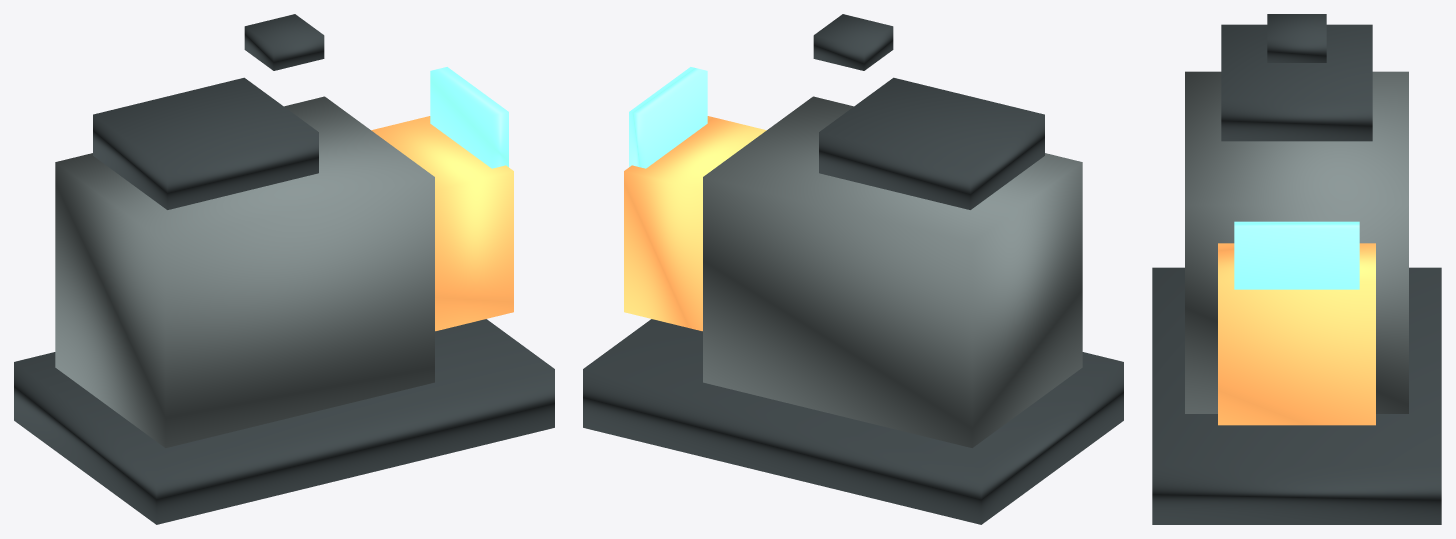
Rendered from jovian-harvester-skimmer-compressor-lod1.glb.
3 renders of one model, left to right at view 1: azimuth 30°, elevation 25°; view 2: azimuth 150°, elevation 25°; view 3: azimuth 270°, elevation 25°, orthographic.
Visible parts, largest first — view 1: jovian-harvester-skimmer-compressor-body, jovian-harvester-skimmer-compressor-skid, jovian-harvester-skimmer-compressor-bypass, jovian-harvester-skimmer-compressor-intake, jovian-harvester-interactable-status, objective-beacon-mount; view 2: jovian-harvester-skimmer-compressor-body, jovian-harvester-skimmer-compressor-skid, jovian-harvester-skimmer-compressor-bypass, jovian-harvester-skimmer-compressor-intake, jovian-harvester-interactable-status, objective-beacon-mount; view 3: jovian-harvester-skimmer-compressor-skid, jovian-harvester-skimmer-compressor-body, jovian-harvester-skimmer-compressor-intake, jovian-harvester-skimmer-compressor-bypass, jovian-harvester-interactable-status, objective-beacon-mount.
Boxes of the visible parts, box(x1,y1,x2,y2) form: jovian-harvester-skimmer-compressor-body: box(55, 96, 434, 447); jovian-harvester-skimmer-compressor-skid: box(14, 319, 554, 524); jovian-harvester-skimmer-compressor-bypass: box(93, 77, 318, 209); jovian-harvester-skimmer-compressor-intake: box(371, 116, 513, 331); jovian-harvester-interactable-status: box(430, 67, 508, 168); objective-beacon-mount: box(244, 14, 324, 70); jovian-harvester-skimmer-compressor-body: box(703, 96, 1082, 447); jovian-harvester-skimmer-compressor-skid: box(583, 319, 1123, 524); jovian-harvester-skimmer-compressor-bypass: box(819, 77, 1044, 209); jovian-harvester-skimmer-compressor-intake: box(624, 116, 766, 331); jovian-harvester-interactable-status: box(629, 67, 707, 168); objective-beacon-mount: box(813, 14, 893, 70); jovian-harvester-skimmer-compressor-skid: box(1152, 267, 1441, 524); jovian-harvester-skimmer-compressor-body: box(1185, 71, 1408, 413); jovian-harvester-skimmer-compressor-intake: box(1218, 243, 1375, 425); jovian-harvester-skimmer-compressor-bypass: box(1221, 24, 1372, 141); jovian-harvester-interactable-status: box(1234, 221, 1359, 289); objective-beacon-mount: box(1267, 14, 1326, 62).
Size of the model in its own units: 1.42 by 1.34 by 0.88.
